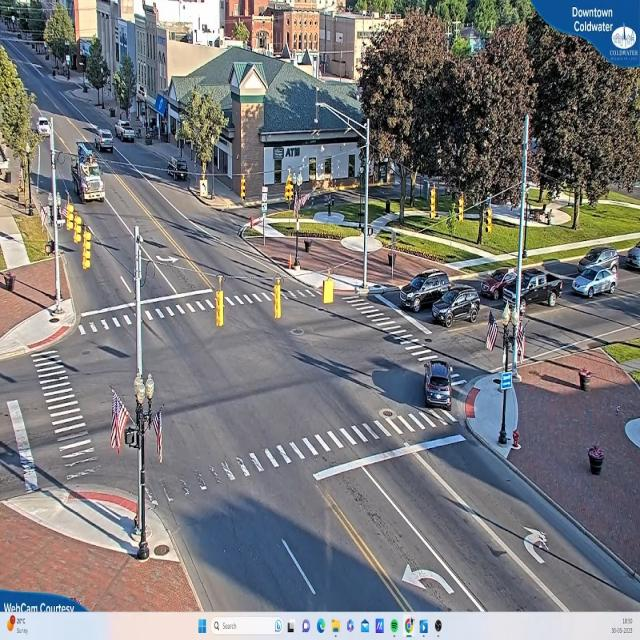car: (496, 271, 562, 309), (400, 272, 455, 314), (432, 290, 480, 327), (570, 266, 616, 298), (620, 248, 639, 270), (119, 125, 137, 144), (98, 129, 113, 151)
truck: (77, 164, 104, 204)
